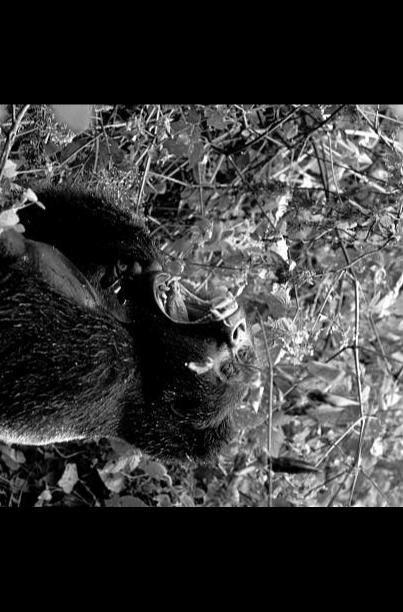goriile_montagne: (0, 154, 306, 475)
